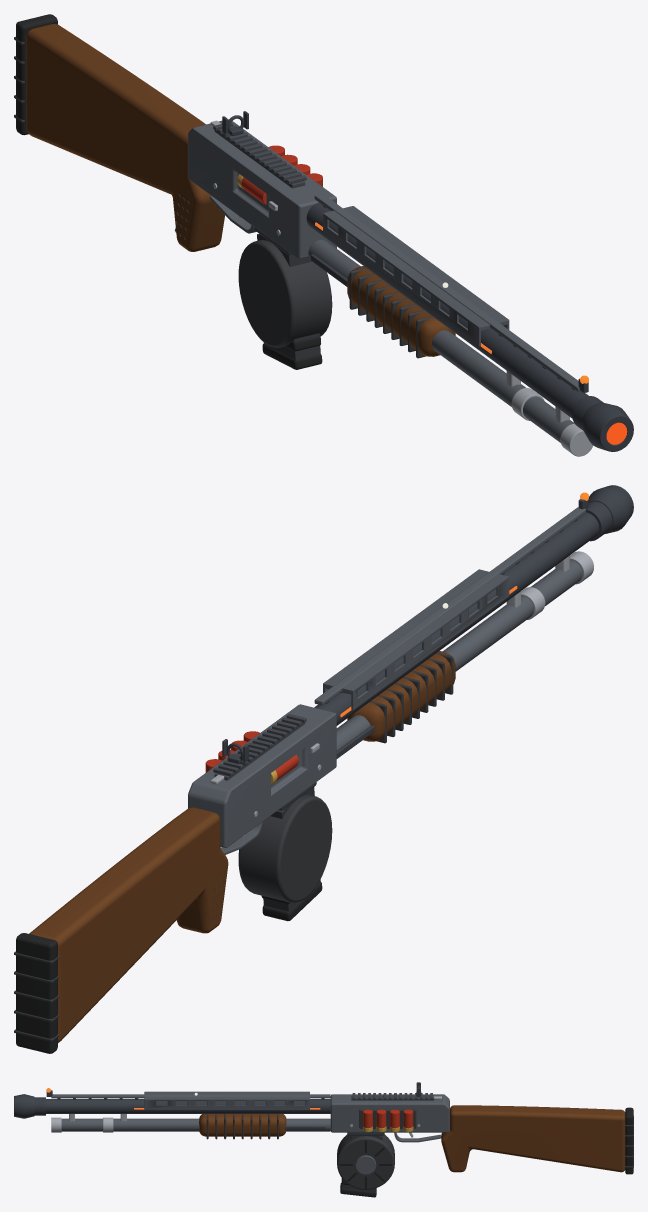
The model's file is shotgun.glb.
3 views of the same model, one above another, from view 1: azimuth 30°, elevation 25°; view 2: azimuth 150°, elevation 25°; view 3: azimuth 270°, elevation 25° (orthographic). The views are drawn at different scales.
Parts seen in each view (by area): view 1: body__0_8, mag__6_8, body__3_8, pump__0_8, body__0_1, body__2_8, body__5_8, body__7_8, mag__1_5; view 2: body__0_8, mag__6_8, body__3_8, pump__0_8, body__0_1, body__2_8, body__7_8, body__5_8, mag__1_5; view 3: body__0_8, mag__6_8, body__3_8, pump__0_8, body__0_1, body__2_8, body__4_8, body__7_8, body__5_8, mag__1_5, body__1_5.
Boxes of the visible parts, bbox=[...] form: body__0_8: bbox=[14, 14, 588, 418]; mag__6_8: bbox=[238, 234, 332, 347]; body__3_8: bbox=[323, 206, 509, 346]; pump__0_8: bbox=[310, 248, 455, 358]; body__0_1: bbox=[308, 239, 544, 420]; body__2_8: bbox=[308, 240, 593, 456]; body__5_8: bbox=[315, 222, 633, 451]; body__7_8: bbox=[213, 111, 306, 188]; mag__1_5: bbox=[257, 235, 322, 369]; body__0_8: bbox=[14, 499, 599, 1053]; mag__6_8: bbox=[238, 789, 332, 902]; body__3_8: bbox=[323, 569, 509, 709]; pump__0_8: bbox=[336, 651, 455, 758]; body__0_1: bbox=[336, 587, 545, 750]; body__2_8: bbox=[336, 551, 593, 750]; body__7_8: bbox=[213, 714, 306, 780]; body__5_8: bbox=[340, 485, 633, 717]; mag__1_5: bbox=[262, 787, 322, 921]; body__0_8: bbox=[46, 1090, 633, 1174]; mag__6_8: bbox=[337, 1134, 394, 1189]; body__3_8: bbox=[144, 1091, 309, 1109]; pump__0_8: bbox=[199, 1114, 325, 1139]; body__0_1: bbox=[103, 1114, 330, 1132]; body__2_8: bbox=[51, 1114, 329, 1132]; body__4_8: bbox=[359, 1109, 416, 1132]; body__7_8: bbox=[351, 1082, 434, 1100]; body__5_8: bbox=[14, 1094, 320, 1118]; mag__1_5: bbox=[340, 1136, 382, 1197]; body__1_5: bbox=[34, 1097, 45, 1115].
Bounding box in the file's own units: 0.0723 × 0.2328 × 1.2.
